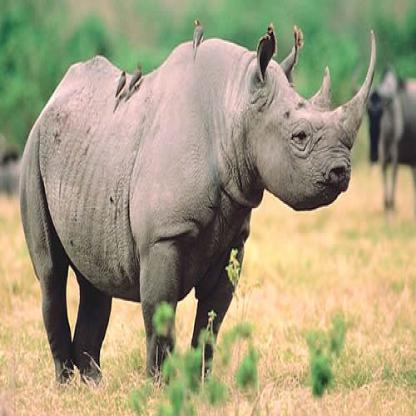Diceros bicornis: (18, 21, 378, 394)
